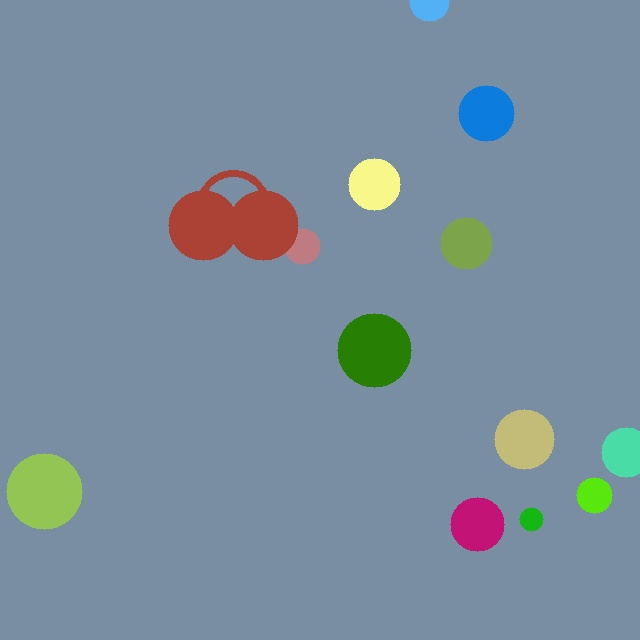over_ear: (164, 167, 302, 264)
